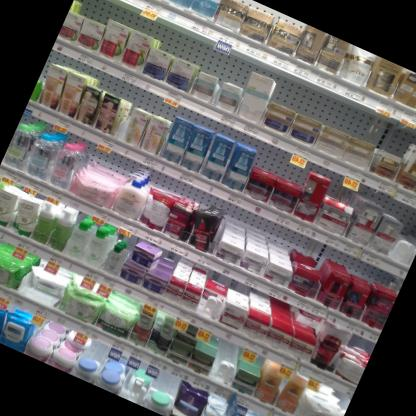empty_space: (387, 212, 416, 263), (150, 367, 180, 396), (21, 283, 56, 307), (84, 337, 107, 362)
